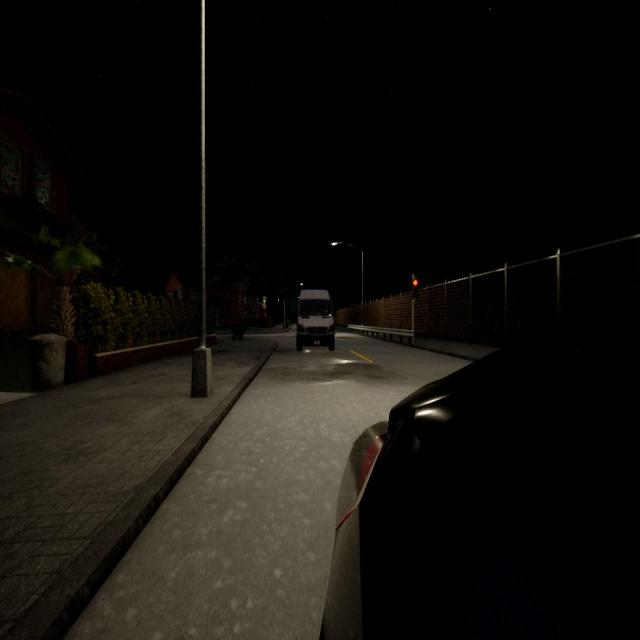Vehicle: (322, 295, 640, 640), (296, 289, 335, 352)
traffic_light: (412, 278, 418, 297)
